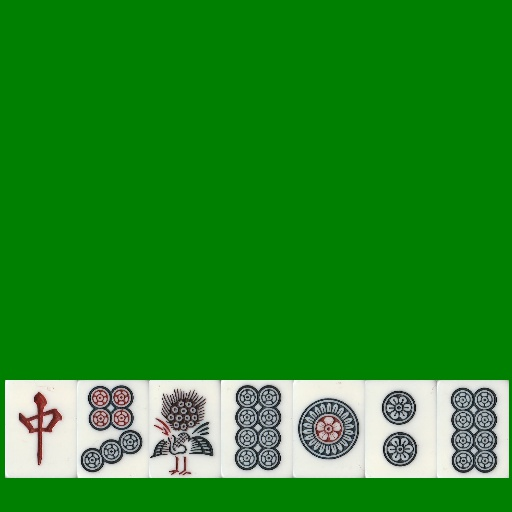1p: (293, 380, 365, 478)
1s: (149, 380, 221, 478)
2p: (365, 380, 437, 478)
7p: (77, 380, 149, 478)
8p: (221, 380, 293, 478), (437, 380, 509, 478)
tyun: (5, 380, 77, 478)
